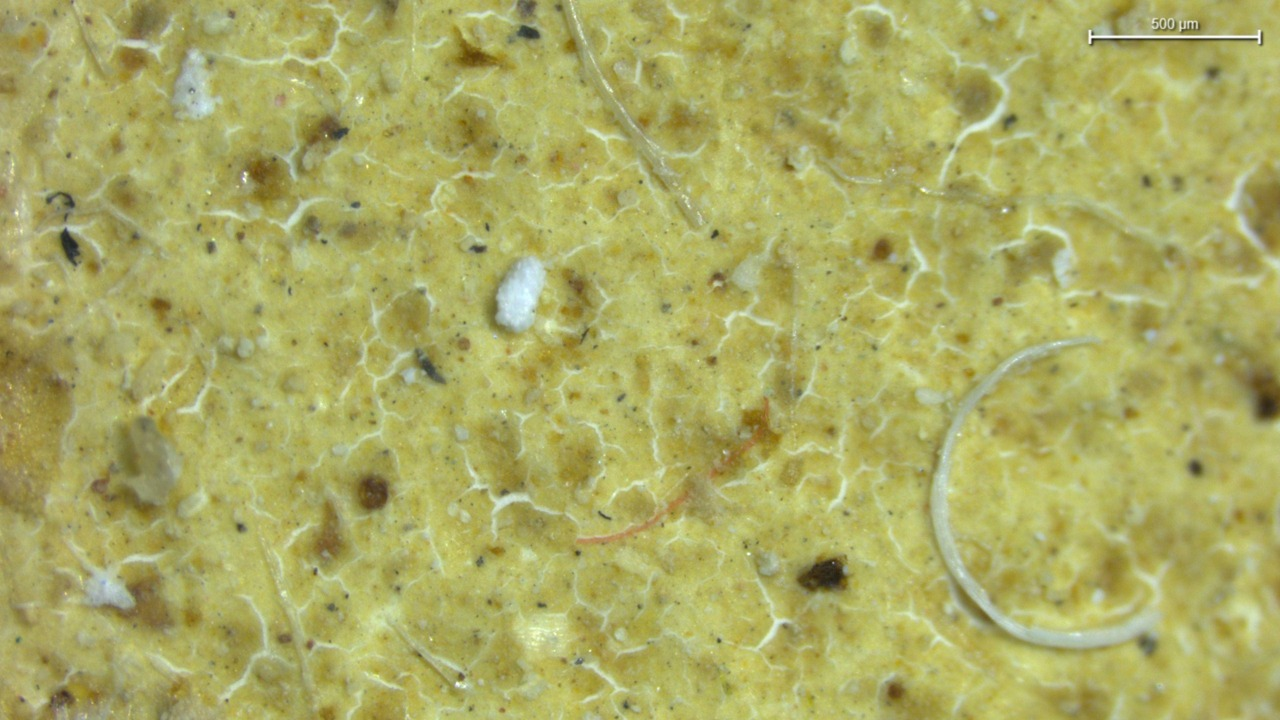microplastic_fragment: (495, 256, 546, 333)
